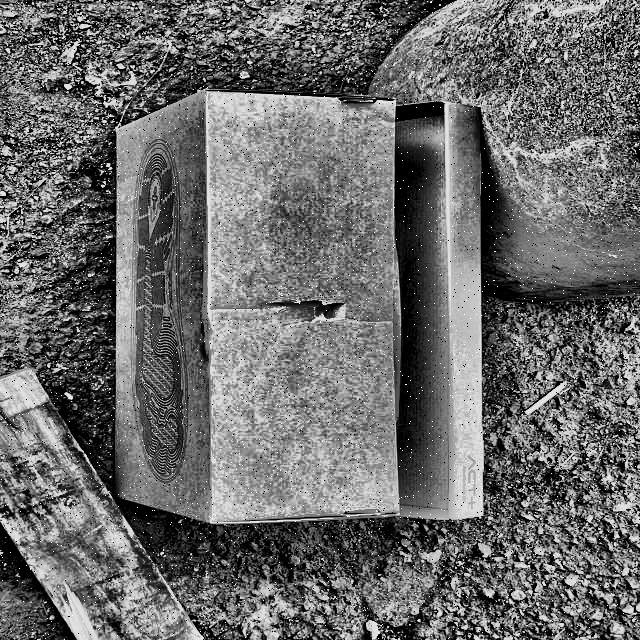box: (109, 76, 496, 536)
hole: (300, 292, 348, 338)
